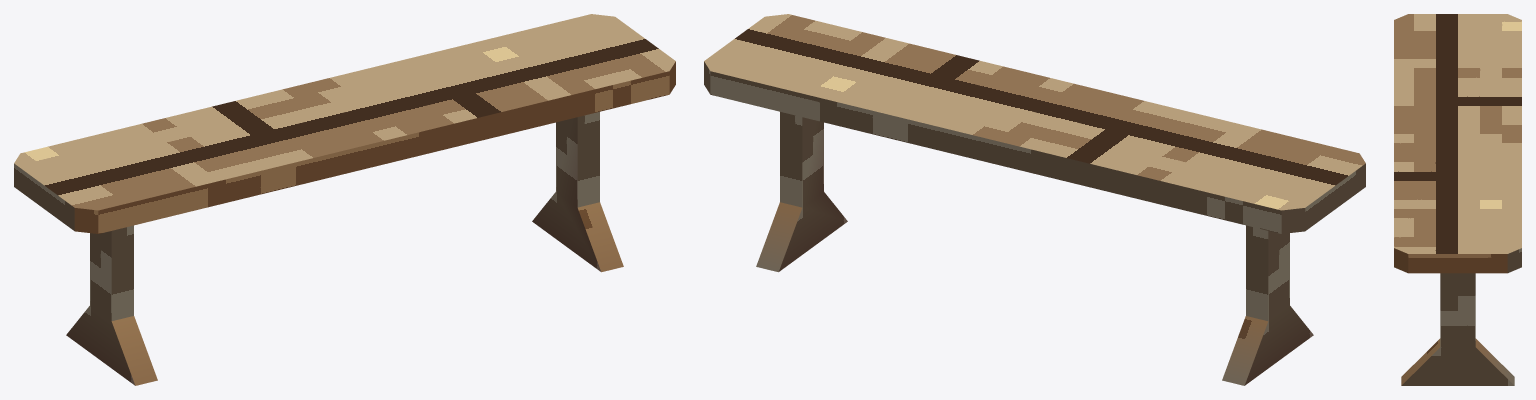
File: wprop.chair__bench.glb
The picture shows the model from 3 angles, left to right: view 1: azimuth 30°, elevation 25°; view 2: azimuth 150°, elevation 25°; view 3: azimuth 270°, elevation 25°; orthographic projection. The views are drawn at different scales.
Visible parts, largest first — view 1: kit_seat, kit_legs; view 2: kit_seat, kit_legs; view 3: kit_seat, kit_legs.
Boxes of the visible parts, x1,y1,x2,y2 form: kit_seat: [14, 14, 675, 233]; kit_legs: [66, 112, 623, 385]; kit_seat: [704, 14, 1365, 233]; kit_legs: [756, 112, 1313, 385]; kit_seat: [1394, 14, 1521, 273]; kit_legs: [1401, 273, 1514, 385].
Bounding box in the file's own units: 1.6 × 0.48 × 0.36.
2 materials, 2 textured.
